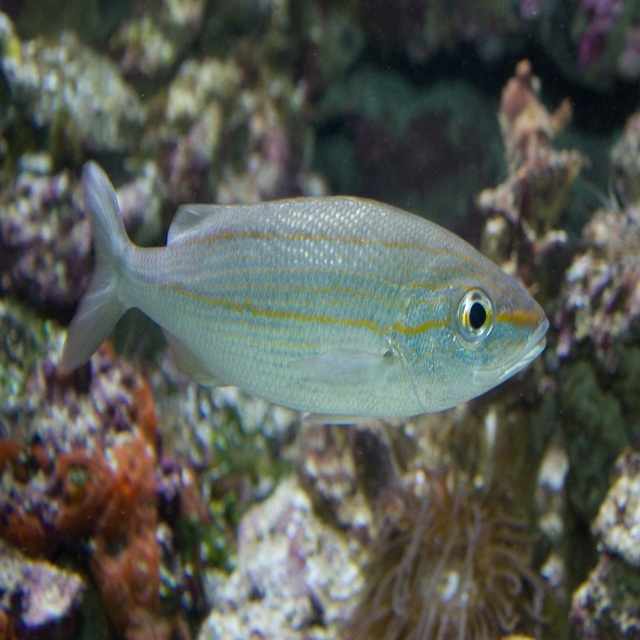Fish: (58, 156, 548, 422)
